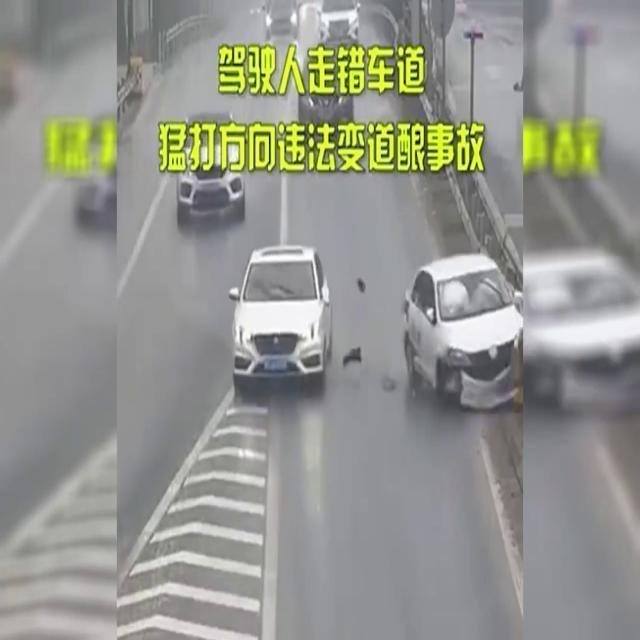accident: (342, 250, 524, 418)
